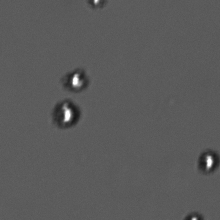Living Cell: (51, 98, 82, 129), (63, 66, 91, 91), (197, 149, 218, 173), (85, 1, 106, 10)
